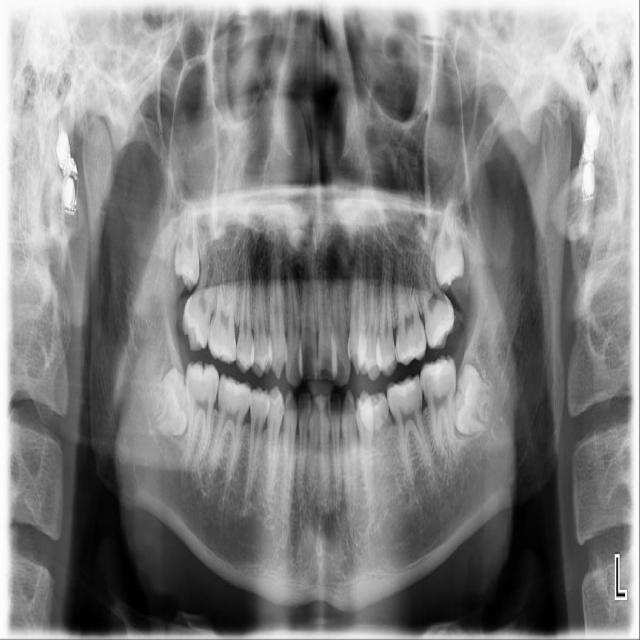3M ESPE Implant: (172, 198, 200, 291)
BioHorizons Implant: (416, 254, 459, 351)
BioLife Implant: (430, 191, 466, 288)
Biomet 3i Implant: (445, 358, 501, 440)
Blue Sky Bio Implant: (419, 355, 455, 458)
Caries: (176, 228, 227, 354)
Implant: (180, 361, 220, 470)
Keystone Dental Implant: (152, 369, 190, 436)
